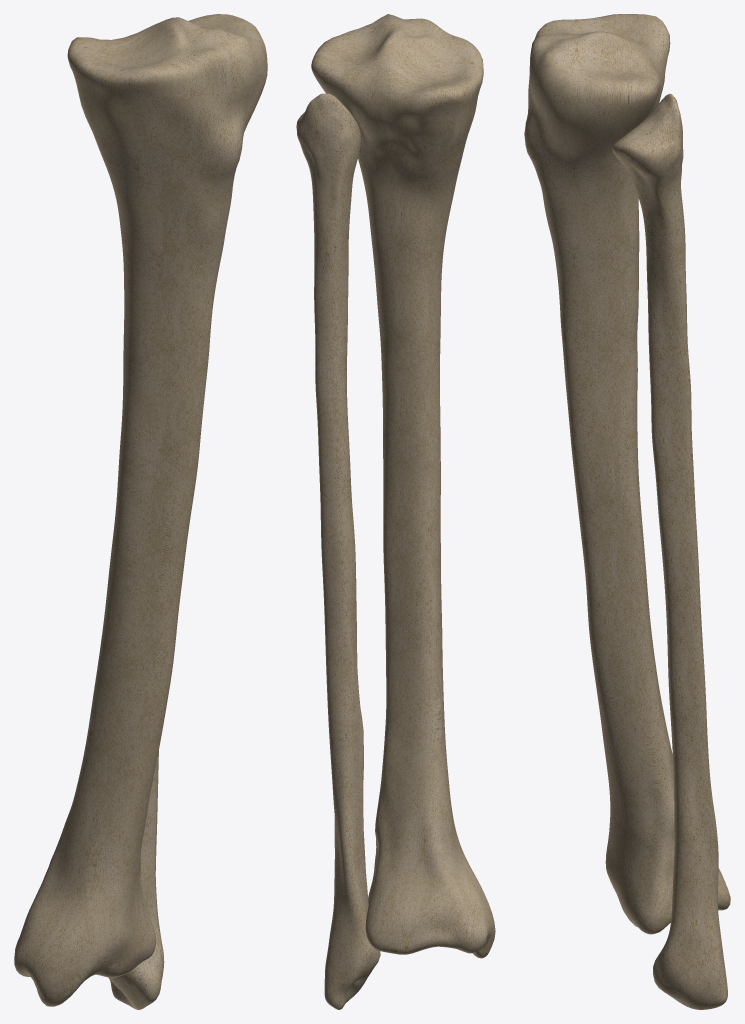
File: tibia_and_fibula__tibia_y_perone.glb
3 renders of one model, left to right at view 1: azimuth 30°, elevation 25°; view 2: azimuth 150°, elevation 25°; view 3: azimuth 270°, elevation 25°, orthographic. The views are drawn at different scales.
Visible parts, largest first — view 1: Object_3, Object_2; view 2: Object_3, Object_2; view 3: Object_3, Object_2.
Boxes of the visible parts, left/top/right/bottom form: Object_3: left=14, top=14, right=267, bottom=1006; Object_2: left=108, top=750, right=164, bottom=1009; Object_3: left=311, top=14, right=495, bottom=958; Object_2: left=296, top=93, right=380, bottom=1009; Object_3: left=524, top=14, right=730, bottom=934; Object_2: left=611, top=93, right=727, bottom=1009.
Size of the model in its own units: 4.36 by 20.13 by 3.86.
Materials: 1 (1 with a texture image).
